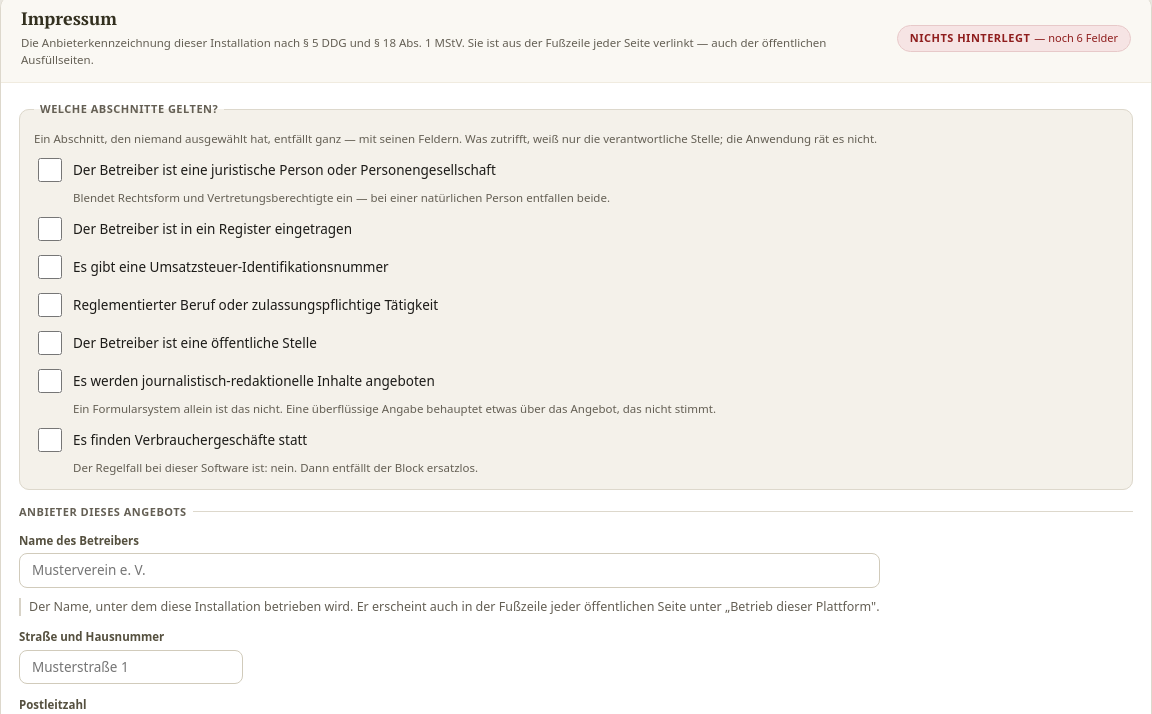
Scenario: der Rechtstext-Editor › zeigt die Felder eines Blocks erst, wenn der Block gilt
Expected: the field labelled "Registergericht" is not shown
Click the checkbox labelled "Der Betreiber ist in ein Register eingetragen": [50, 229] box [38, 217, 62, 241]
(page scrolled)
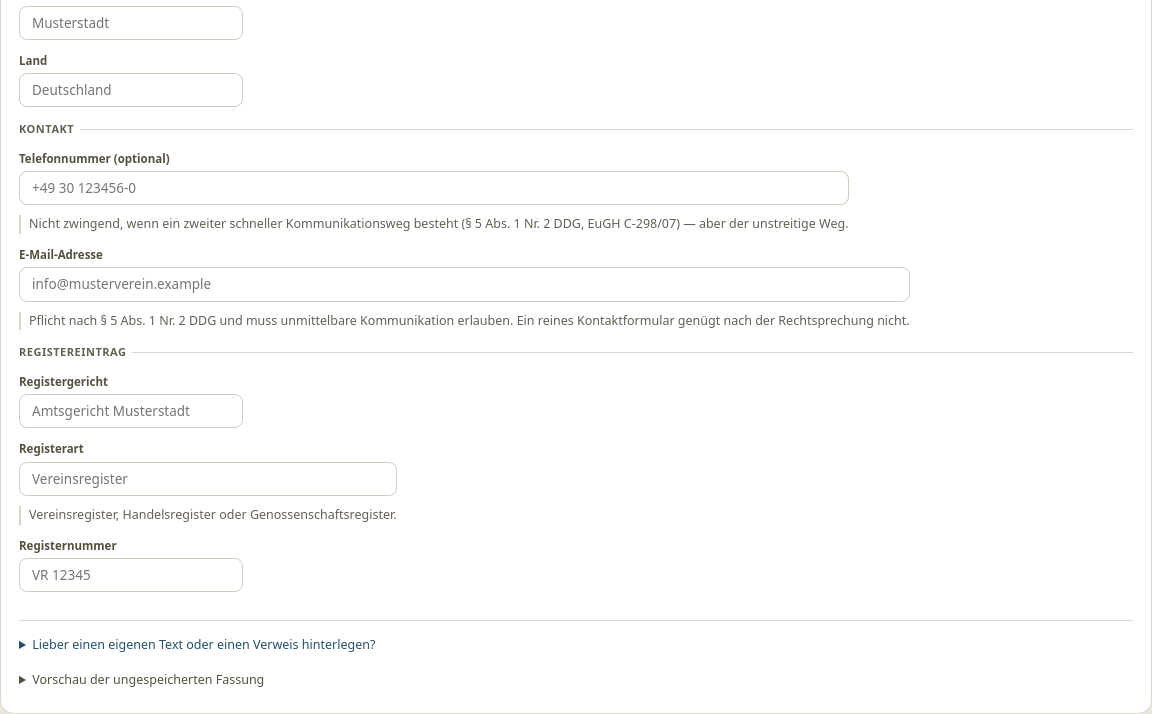
Result: the field labelled "Registergericht" is shown at [19, 394, 243, 428]
